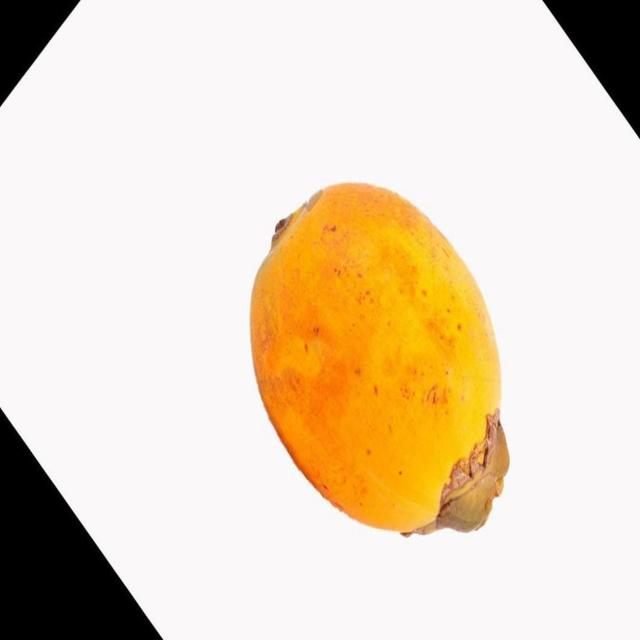good: (248, 183, 511, 538)
